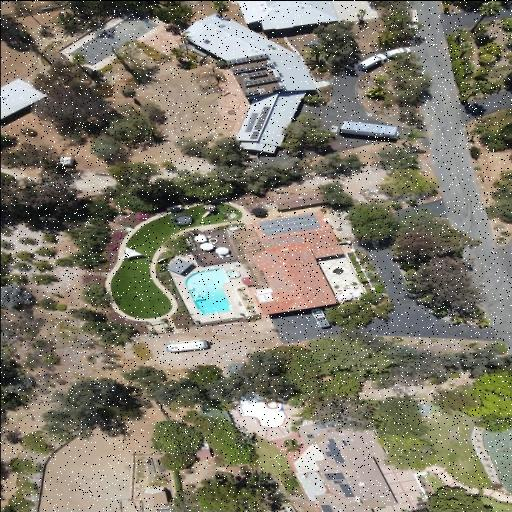solar-panel: (257, 213, 320, 237), (324, 438, 344, 463), (226, 54, 269, 64), (230, 63, 273, 73), (253, 107, 270, 130), (242, 76, 281, 86), (338, 484, 354, 497), (323, 472, 345, 480), (246, 71, 267, 77), (319, 504, 332, 512), (249, 131, 260, 139), (243, 90, 258, 95), (270, 85, 285, 90)
